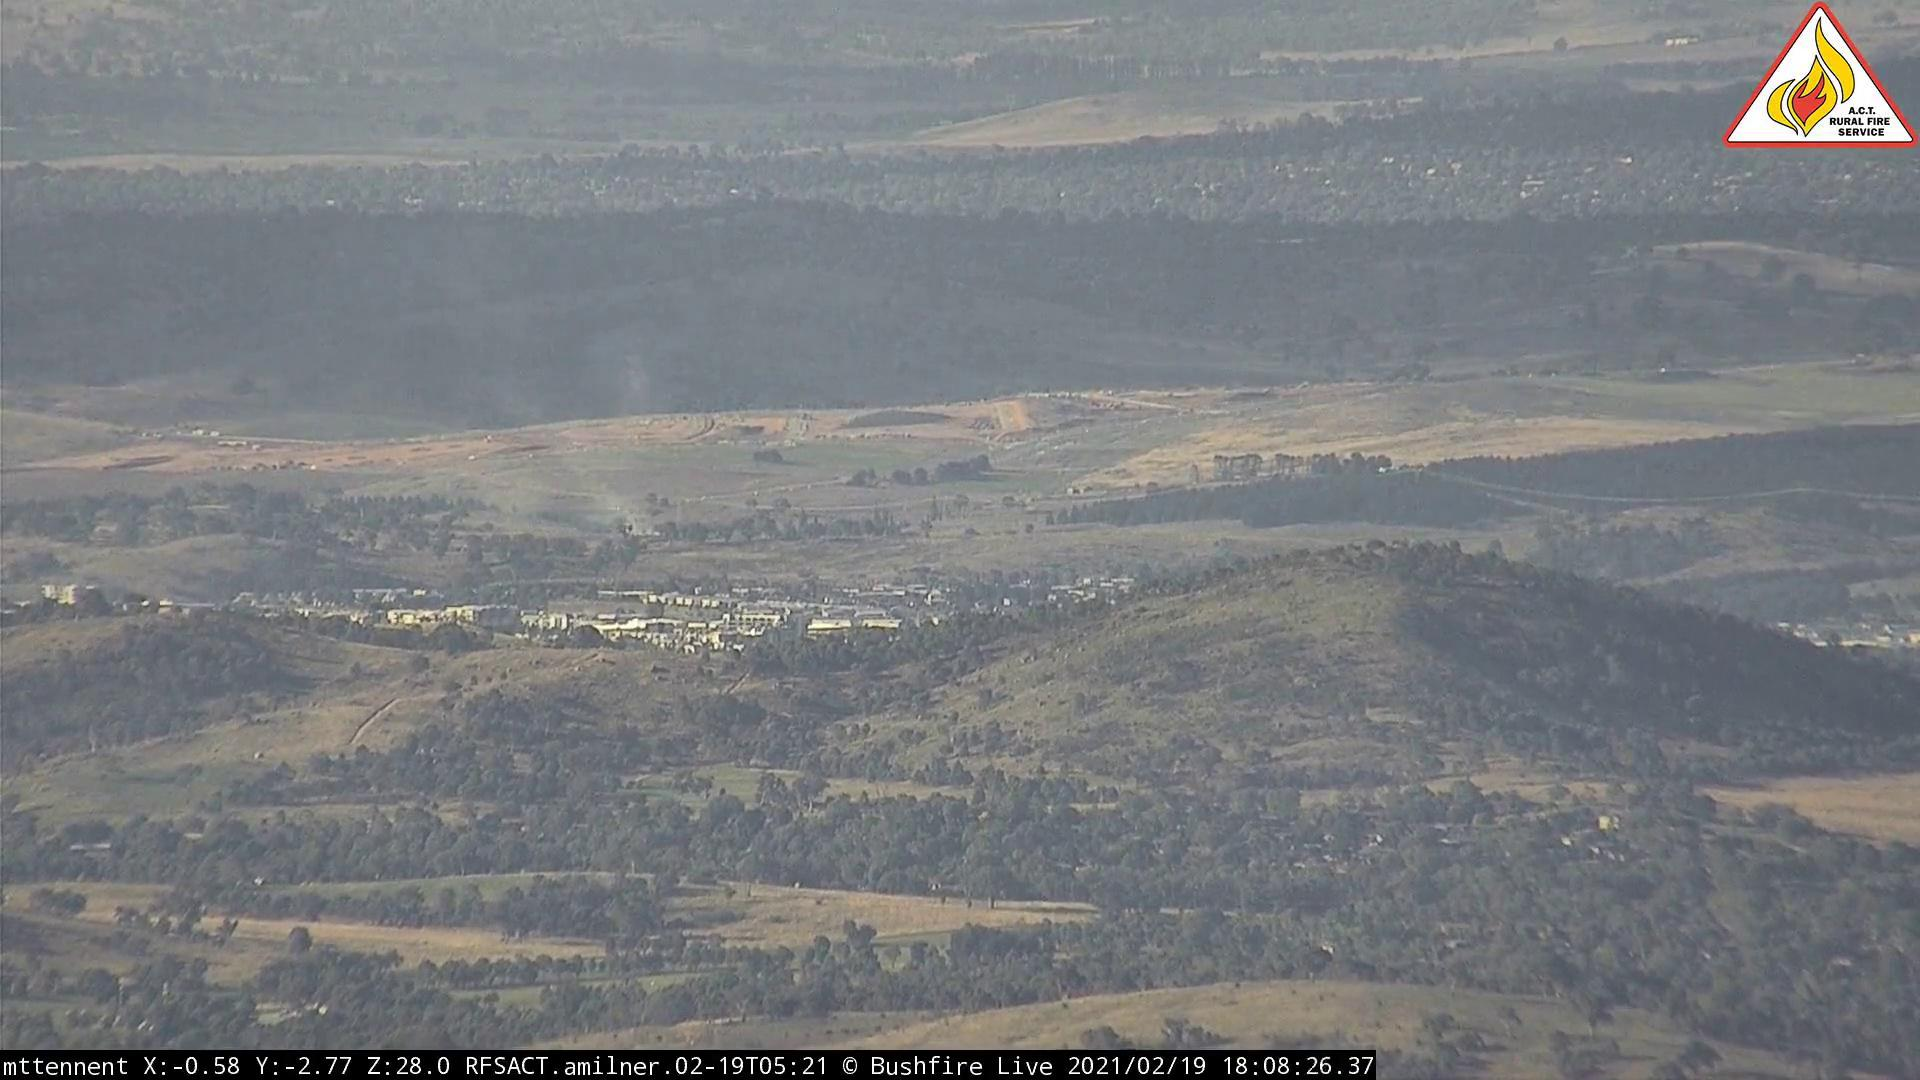Smoke: (556, 484, 642, 542)
